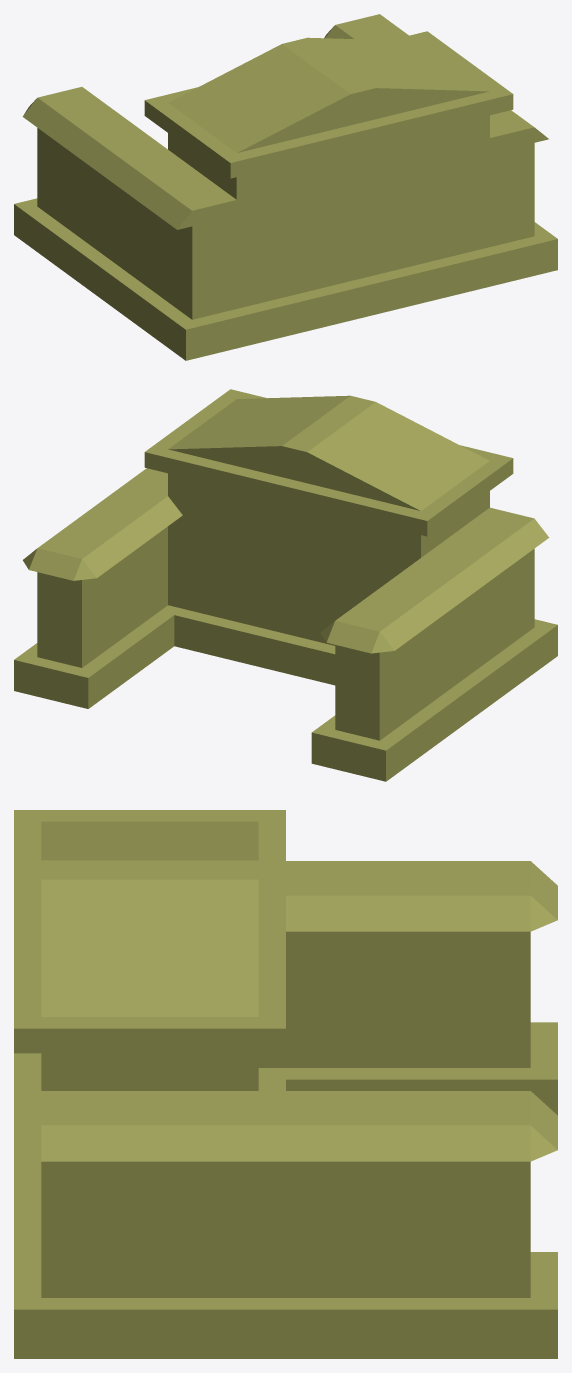
Rendered from tile_lab_lib.fbx.
The picture shows the model from 3 angles, top to bottom: view 1: azimuth 30°, elevation 25°; view 2: azimuth 150°, elevation 25°; view 3: azimuth 270°, elevation 25°; orthographic projection. The views are drawn at different scales.
Parts seen in each view (by area): view 1: Alexandria; view 2: Alexandria; view 3: Alexandria.
Boxes of the visible parts, x1=… form: Alexandria: x1=14, y1=14, x2=557, y2=360; Alexandria: x1=14, y1=389, x2=557, y2=781; Alexandria: x1=14, y1=810, x2=557, y2=1358.
Bounding box in the file's own units: 2.5 × 1.4 × 2.
